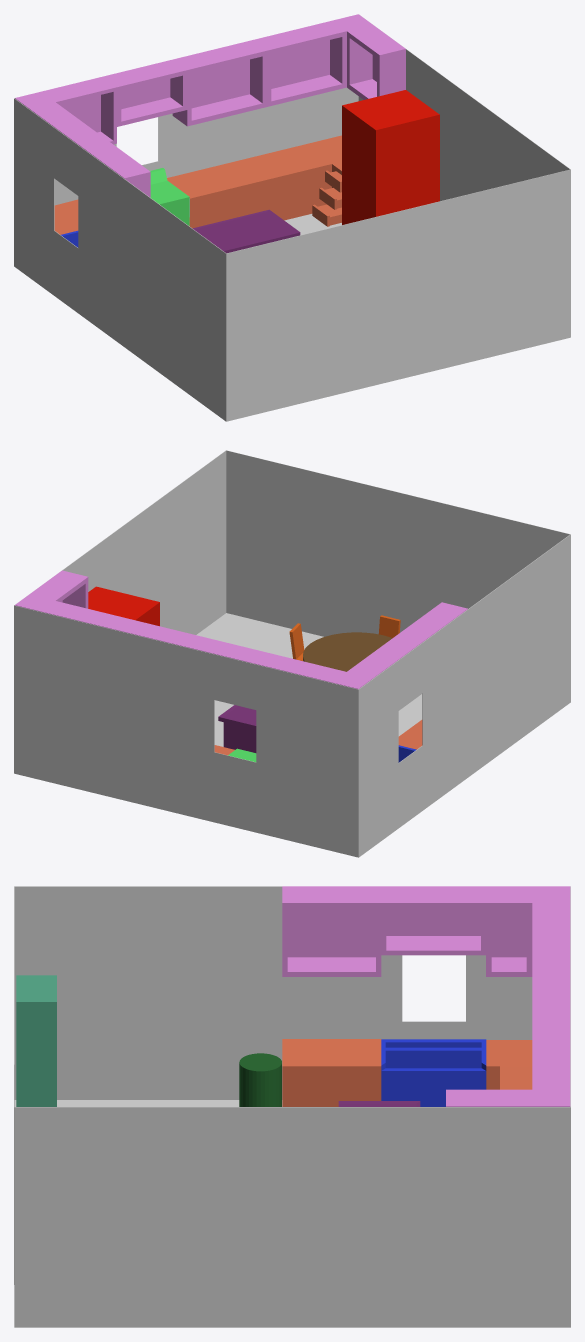
Rendered from Kitchen.fbx.
The picture shows the model from 3 angles, top to bottom: view 1: azimuth 30°, elevation 25°; view 2: azimuth 150°, elevation 25°; view 3: azimuth 270°, elevation 25°; orthographic projection. The views are drawn at different scales.
Visible parts, largest first — view 1: walls, Upper_cabinets, fridge, Cube.006, island, STOVE, Cube.002, Floor; view 2: walls, Upper_cabinets, Floor, table, fridge, island; view 3: walls, Upper_cabinets, Cube.003, sink, shelf, Cube.002, garbage, Floor.
Boxes of the visible parts, x1=… form: walls: x1=14, y1=14, x2=570, y2=421; Upper_cabinets: x1=15, y1=14, x2=405, y2=197; fridge: x1=342, y1=90, x2=439, y2=224; Cube.006: x1=167, y1=135, x2=341, y2=228; island: x1=192, y1=209, x2=300, y2=253; STOVE: x1=150, y1=168, x2=189, y2=225; Cube.002: x1=54, y1=199, x2=78, y2=234; Floor: x1=284, y1=214, x2=341, y2=235; walls: x1=14, y1=450, x2=570, y2=857; Upper_cabinets: x1=14, y1=570, x2=467, y2=689; Floor: x1=196, y1=613, x2=422, y2=746; table: x1=303, y1=632, x2=392, y2=671; fridge: x1=88, y1=586, x2=159, y2=626; island: x1=218, y1=705, x2=256, y2=752; walls: x1=14, y1=886, x2=570, y2=1327; Upper_cabinets: x1=282, y1=886, x2=570, y2=1106; Cube.003: x1=282, y1=1039, x2=381, y2=1106; sink: x1=381, y1=1039, x2=486, y2=1106; shelf: x1=16, y1=975, x2=56, y2=1106; Cube.002: x1=486, y1=1040, x2=532, y2=1089; garbage: x1=239, y1=1053, x2=281, y2=1106; Floor: x1=14, y1=1100, x2=282, y2=1106.
Bounding box in the file's own units: 15829 × 7389 × 16875.
